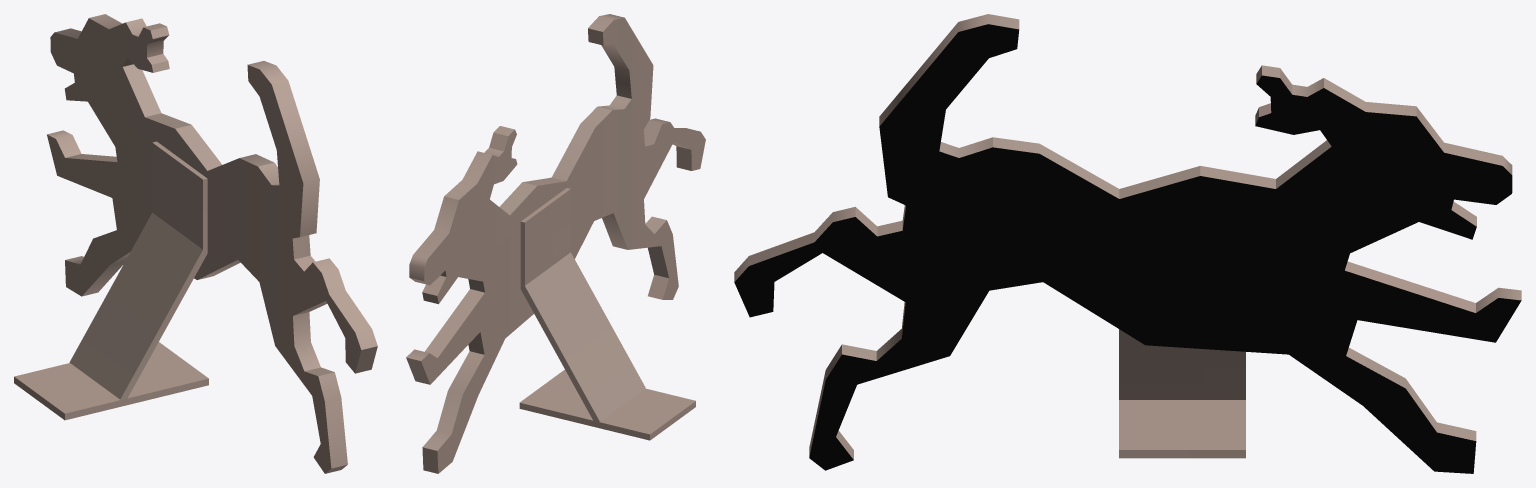
Rendered from Hund 2.FBX.
The picture shows the model from 3 angles, left to right: view 1: azimuth 30°, elevation 25°; view 2: azimuth 150°, elevation 25°; view 3: azimuth 270°, elevation 25°; orthographic projection. The views are drawn at different scales.
Parts seen in each view (by area): view 1: Hund 2; view 2: Hund 2; view 3: Hund 2.
Part boxes in pixels (box(x1,y1,x2,y2)): Hund 2: box(14, 14, 377, 473); Hund 2: box(406, 14, 705, 473); Hund 2: box(734, 14, 1521, 473).
Size of the model in its own units: 28.83 by 62.14 by 98.57.
